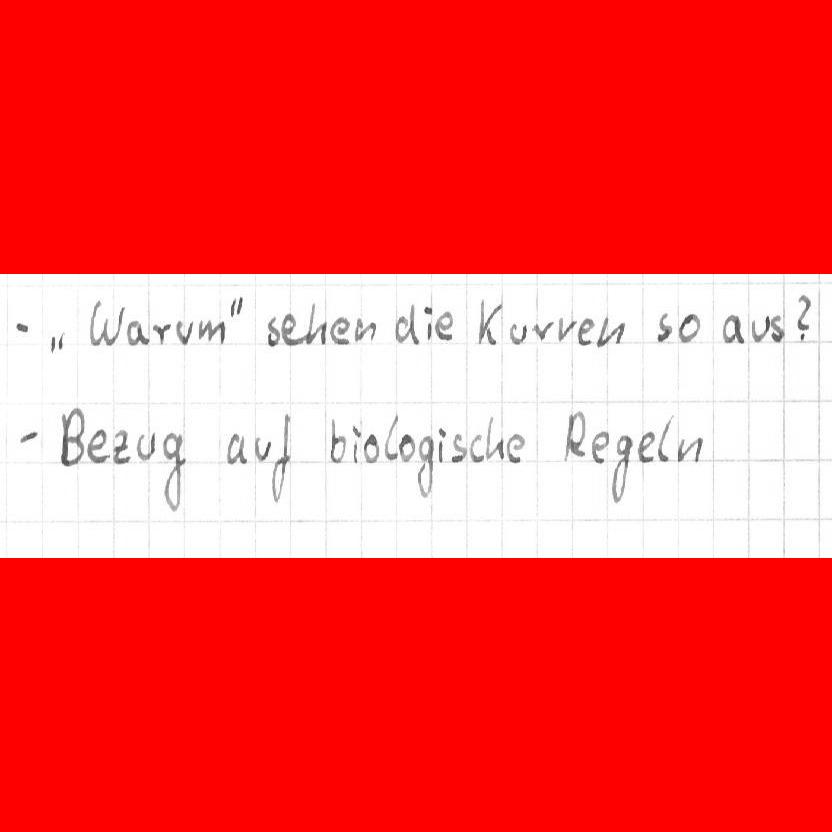Char: (268, 415, 293, 503), (161, 431, 185, 512), (58, 407, 86, 466), (610, 431, 632, 505), (90, 298, 121, 349), (475, 295, 502, 348), (562, 408, 586, 462), (303, 298, 326, 348), (416, 432, 433, 497), (394, 304, 419, 345), (596, 315, 625, 349), (793, 293, 812, 342), (328, 413, 346, 464), (656, 413, 673, 463), (197, 316, 225, 346), (87, 426, 109, 464), (225, 431, 247, 467), (486, 413, 502, 462), (676, 435, 703, 464), (677, 311, 701, 343), (383, 414, 398, 464), (589, 427, 609, 464), (721, 313, 744, 344), (110, 427, 129, 464), (352, 315, 377, 343), (135, 430, 157, 461), (636, 429, 655, 463), (506, 432, 525, 465), (227, 291, 245, 325), (435, 311, 454, 343), (554, 315, 576, 342), (331, 314, 350, 345), (126, 319, 147, 347), (252, 434, 272, 463), (655, 311, 673, 343), (749, 314, 768, 344), (450, 430, 467, 463), (175, 318, 195, 346), (577, 315, 595, 345), (281, 313, 299, 343), (768, 313, 786, 343), (362, 432, 378, 465), (507, 320, 528, 345), (532, 319, 553, 343), (152, 321, 172, 346), (265, 314, 281, 345), (48, 330, 68, 354), (350, 421, 361, 464), (437, 426, 449, 464), (12, 316, 32, 338), (18, 427, 40, 447), (470, 436, 486, 463), (399, 435, 415, 462), (424, 304, 434, 343)
